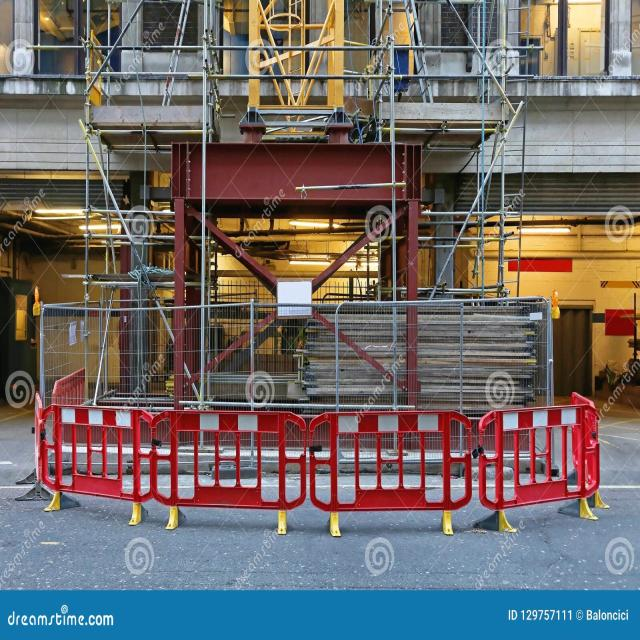cone: (34, 391, 602, 537)
